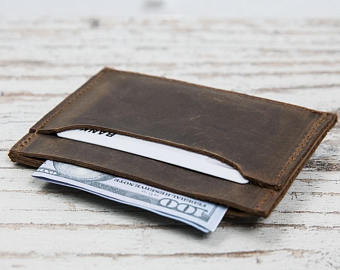monedero: (5, 64, 340, 224)
